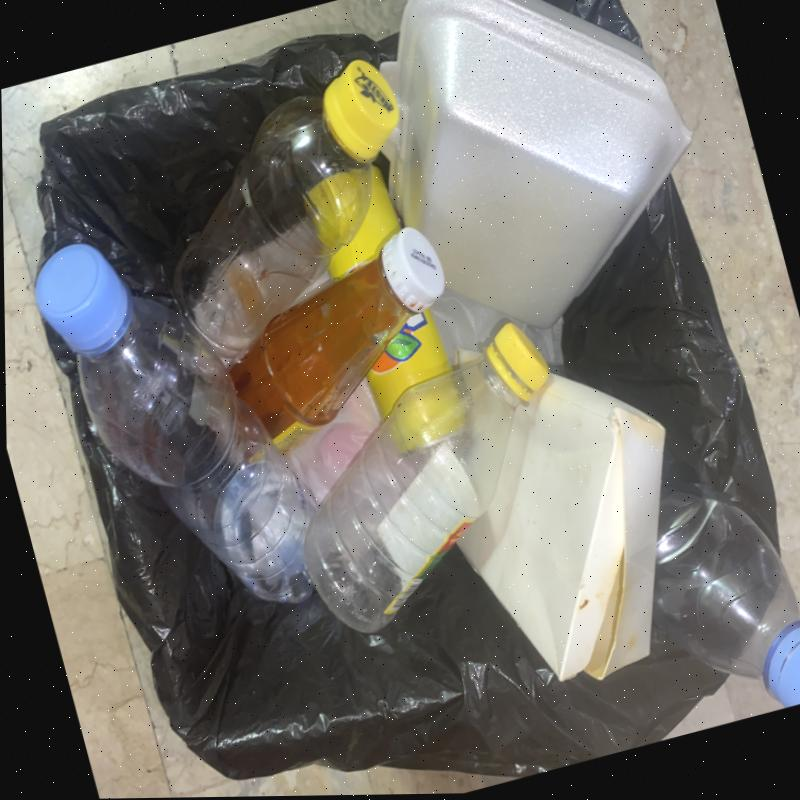cardboard: (455, 370, 666, 680)
glass bottle: (225, 226, 446, 454)
plastic bottle: (32, 241, 322, 603), (303, 320, 553, 633), (171, 54, 398, 368), (652, 475, 800, 707)
styrofoam containers: (387, 0, 694, 323)
